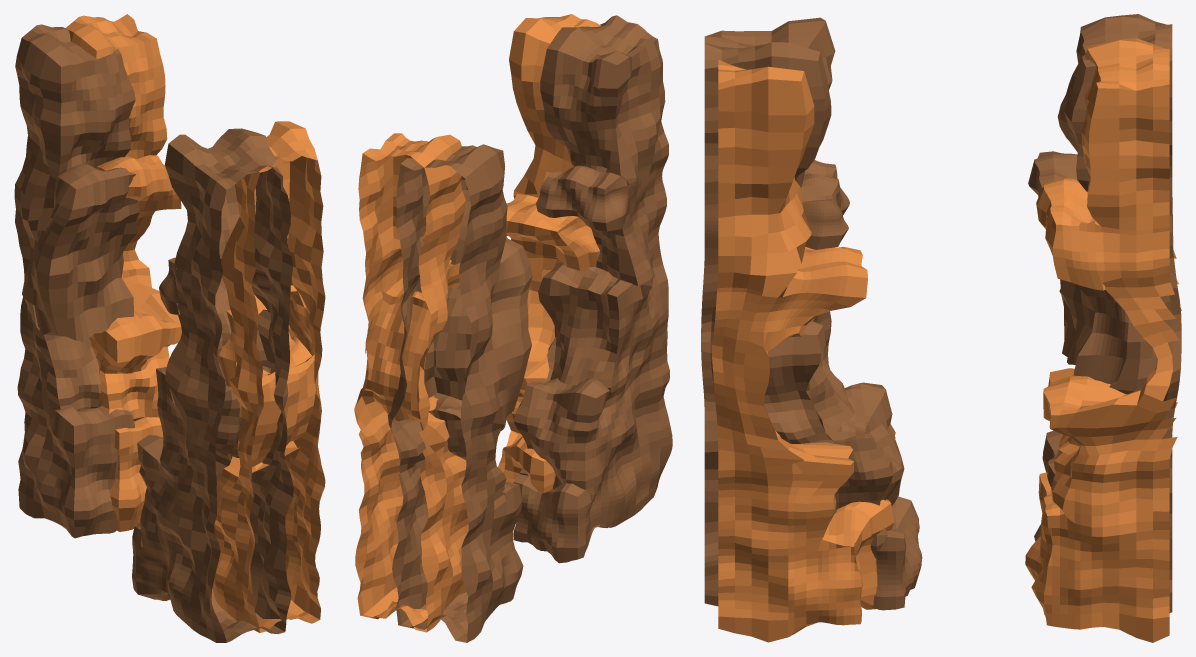
File: stone.fbx
The picture shows the model from 3 angles, left to right: view 1: azimuth 30°, elevation 25°; view 2: azimuth 150°, elevation 25°; view 3: azimuth 270°, elevation 25°; orthographic projection. The views are drawn at different scales.
Parts seen in each view (by area): view 1: Cube.002, Cube.001; view 2: Cube.002, Cube.001; view 3: Cube.001, Cube.002.
Part boxes in pixels (x1=…): Cube.002: x1=14, y1=24, x2=293, y2=642; Cube.001: x1=65, y1=14, x2=325, y2=632; Cube.002: x1=387, y1=15, x2=672, y2=642; Cube.001: x1=354, y1=14, x2=600, y2=632; Cube.001: x1=712, y1=38, x2=1181, y2=642; Cube.002: x1=701, y1=14, x2=1181, y2=612.
Bounding box in the file's own units: 100 × 326 × 247.
